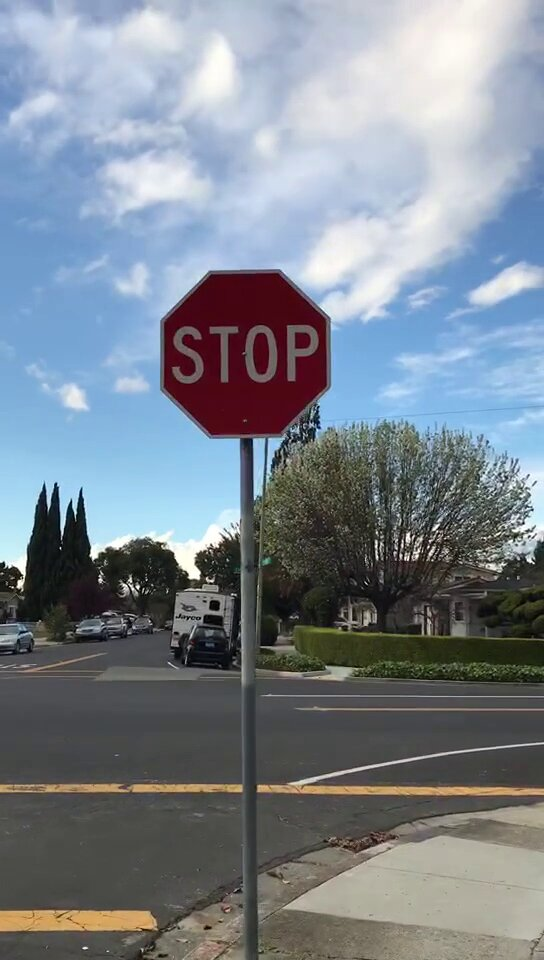stop_sign: (161, 272, 331, 437)
